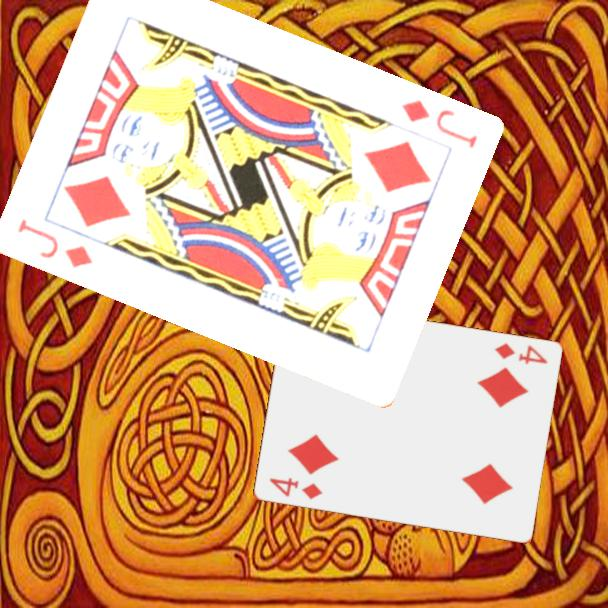d04: (265, 474, 325, 502), (491, 339, 550, 367)
d11: (13, 215, 95, 271), (397, 96, 480, 151)
